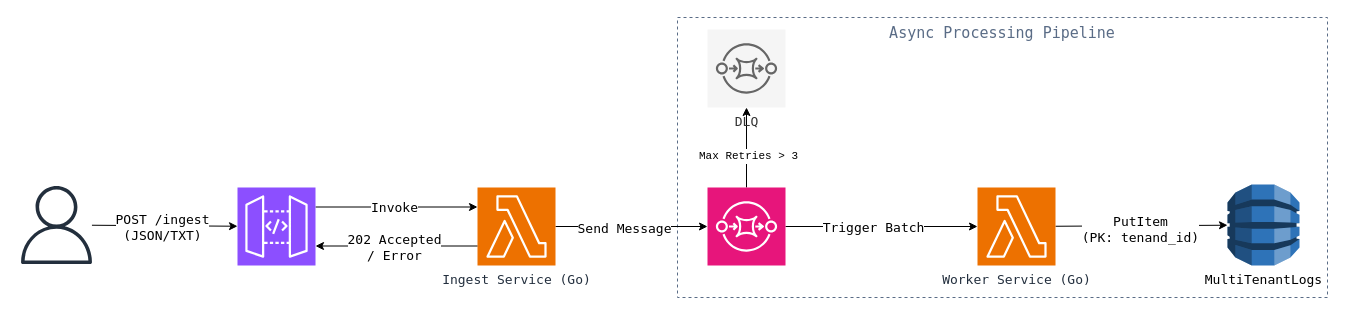
Some shapes in this 1345 by 315 pixel diagram are drawn without their labels. Here are the shapes that lost their labels. From the top down, the centre of each, then its label:
At (276,226): "API Gateway".
At (746,226): "SQS Queue".
